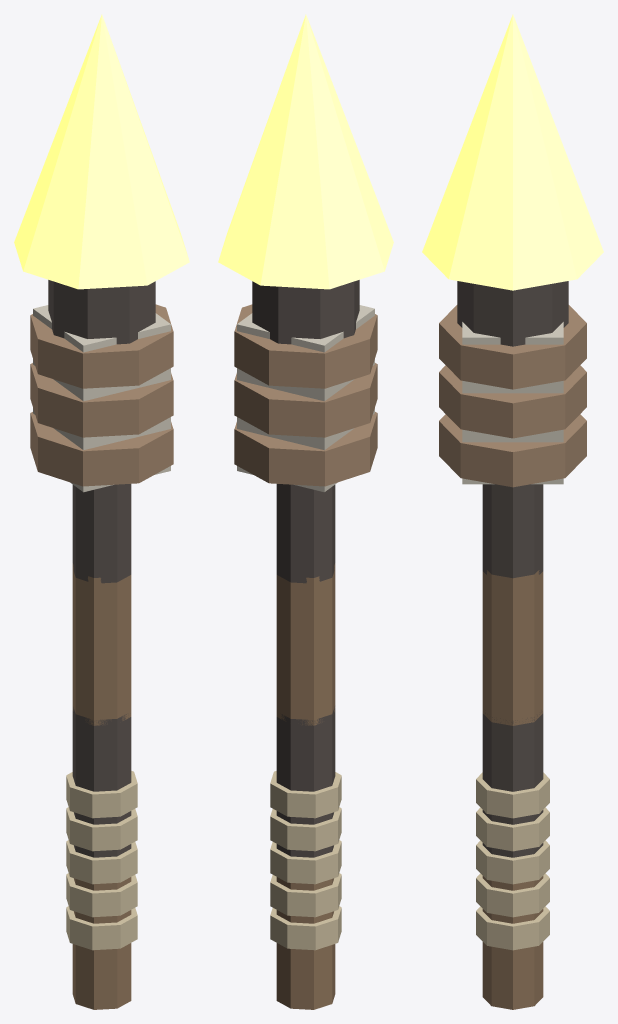
File: torch.glb
The picture shows the model from 3 angles, left to right: view 1: azimuth 30°, elevation 25°; view 2: azimuth 150°, elevation 25°; view 3: azimuth 270°, elevation 25°; orthographic projection.
Parts seen in each view (by area): view 1: torch; view 2: torch; view 3: torch.
Boxes of the visible parts, box(x1,y1,x2,y2) form: torch: box(14, 14, 189, 1009); torch: box(218, 14, 393, 1009); torch: box(422, 14, 603, 1009).
Bounding box in the file's own units: 0.18 × 1.07 × 0.18.
